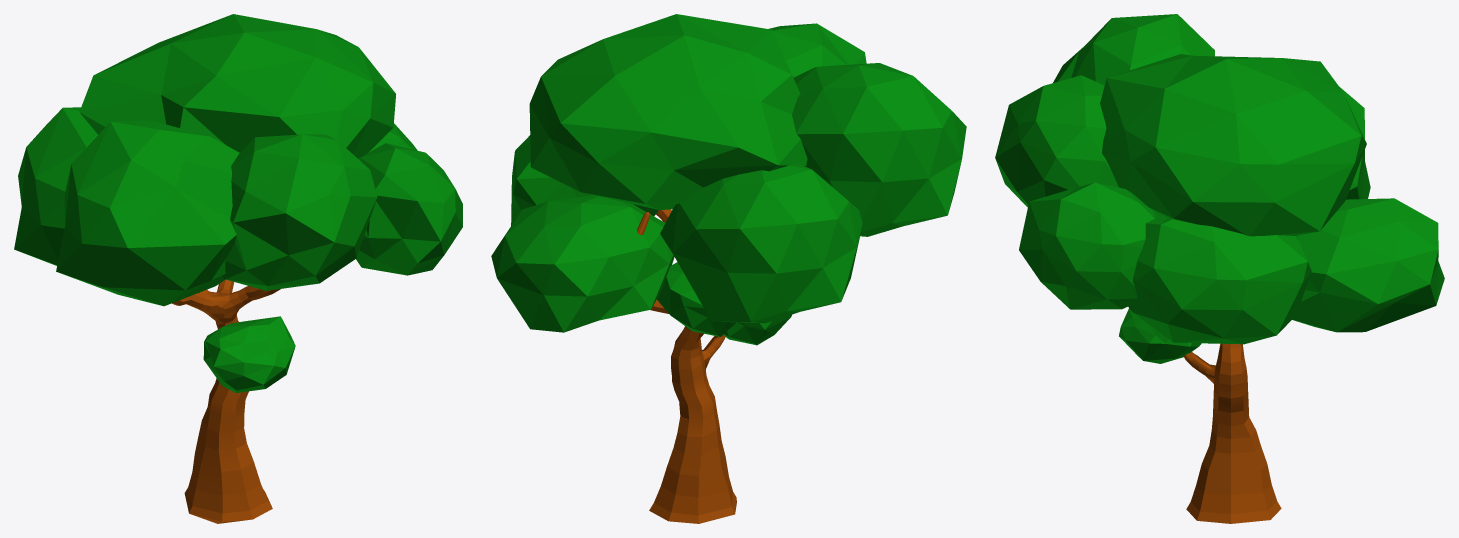
File: tree2.glb
3 views of the same model, side by side, from view 1: azimuth 30°, elevation 25°; view 2: azimuth 150°, elevation 25°; view 3: azimuth 270°, elevation 25° (orthographic). The views are drawn at different scales.
Visible parts, largest first — view 1: Icosphere.001, Icosphere.002, Icosphere.007, Icosphere.006, Plane, Icosphere.003, Icosphere.009; view 2: Icosphere.001, Icosphere.003, Icosphere.002, Icosphere.004, Plane, Icosphere.007, Icosphere.005, Icosphere.008, Icosphere.009; view 3: Icosphere.001, Icosphere.005, Icosphere.004, Icosphere.006, Icosphere.007, Plane, Icosphere.002, Icosphere.009, Icosphere.003.
Boxes of the visible parts, bbox=[...] form: Icosphere.001: bbox=[79, 14, 395, 158]; Icosphere.002: bbox=[56, 120, 239, 306]; Icosphere.007: bbox=[222, 134, 377, 290]; Icosphere.006: bbox=[356, 143, 462, 275]; Plane: bbox=[172, 279, 280, 523]; Icosphere.003: bbox=[14, 107, 97, 265]; Icosphere.009: bbox=[203, 316, 295, 392]; Icosphere.001: bbox=[529, 14, 807, 209]; Icosphere.003: bbox=[660, 163, 862, 323]; Icosphere.002: bbox=[792, 63, 966, 236]; Icosphere.004: bbox=[491, 195, 674, 332]; Plane: bbox=[637, 209, 736, 523]; Icosphere.007: bbox=[769, 23, 866, 77]; Icosphere.005: bbox=[511, 135, 658, 225]; Icosphere.008: bbox=[657, 262, 736, 336]; Icosphere.009: bbox=[723, 314, 791, 345]; Icosphere.001: bbox=[1100, 54, 1366, 236]; Icosphere.005: bbox=[1128, 212, 1311, 344]; Icosphere.004: bbox=[1292, 198, 1444, 332]; Icosphere.006: bbox=[1019, 182, 1154, 309]; Icosphere.007: bbox=[995, 75, 1118, 207]; Plane: bbox=[1183, 343, 1281, 523]; Icosphere.002: bbox=[1053, 14, 1214, 85]; Icosphere.009: bbox=[1119, 308, 1201, 363]; Icosphere.003: bbox=[1339, 86, 1370, 199].
Size of the model in its own units: 14.96 by 17.09 by 15.16.
